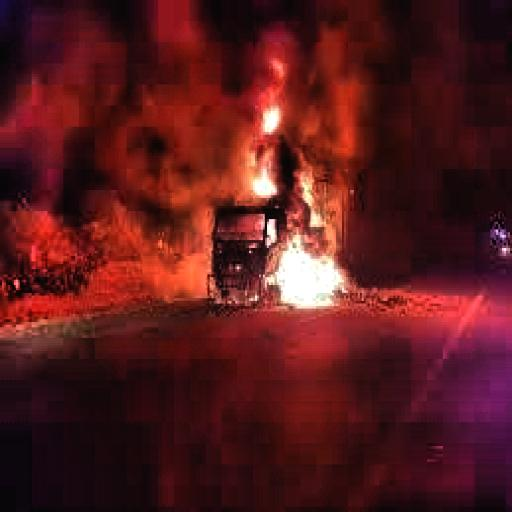fire: (212, 195, 376, 309), (233, 42, 326, 203)
